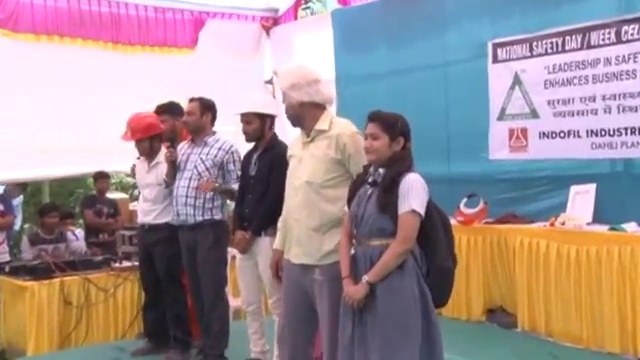helmet: (226, 90, 280, 125), (119, 112, 168, 142)
helmet_off: (355, 110, 413, 179), (276, 63, 335, 125), (181, 96, 219, 141), (153, 103, 183, 151), (30, 202, 63, 234), (87, 173, 108, 199), (3, 182, 28, 203)
helmet_on: (120, 113, 168, 173), (227, 97, 276, 147)
person: (333, 109, 458, 360), (262, 64, 363, 358), (121, 95, 193, 349), (166, 94, 235, 359), (222, 92, 288, 359), (20, 200, 86, 272), (78, 172, 121, 260), (0, 182, 29, 230), (0, 195, 13, 274)
